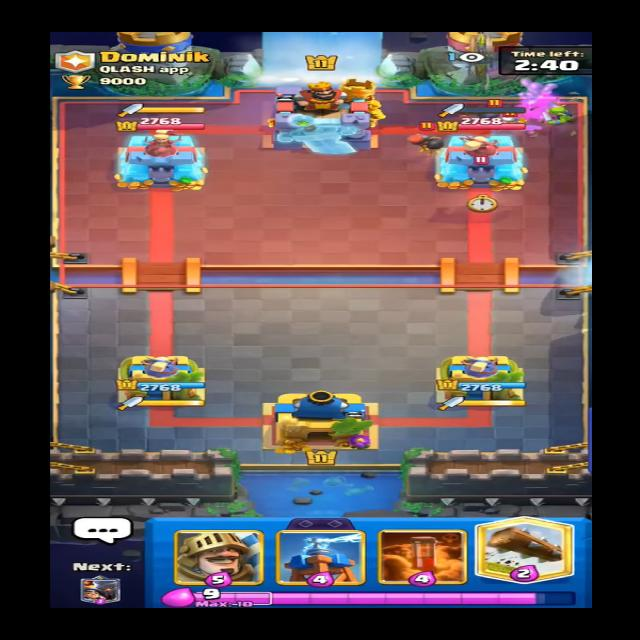bomber: (398, 119, 447, 158)
skeleton: (495, 109, 525, 130)
